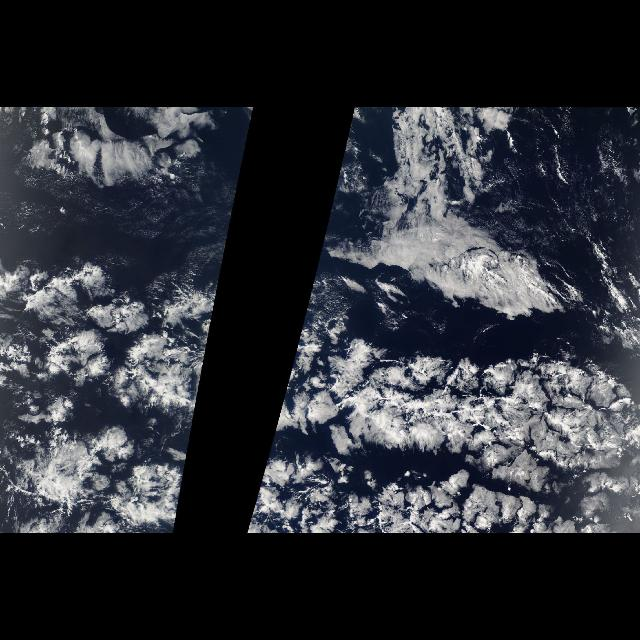Fish: (270, 305, 640, 467)
Flower: (246, 232, 640, 534), (2, 232, 230, 534)
